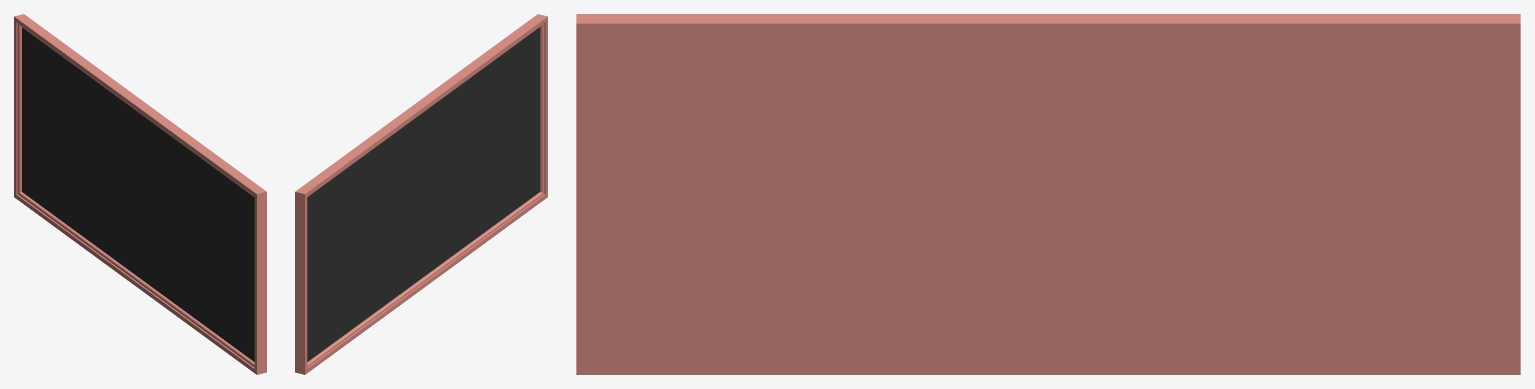
The model's file is tabla_perete.fbx.
The picture shows the model from 3 angles, left to right: view 1: azimuth 30°, elevation 25°; view 2: azimuth 150°, elevation 25°; view 3: azimuth 270°, elevation 25°; orthographic projection. The views are drawn at different scales.
Parts seen in each view (by area): view 1: Tabla; view 2: Tabla; view 3: Tabla.
Part boxes in pixels (<box>): Tabla: <box>14,14,266,374</box>; Tabla: <box>295,14,547,374</box>; Tabla: <box>576,14,1520,374</box>.
Bounding box in the file's own units: 22 × 378 × 920.
